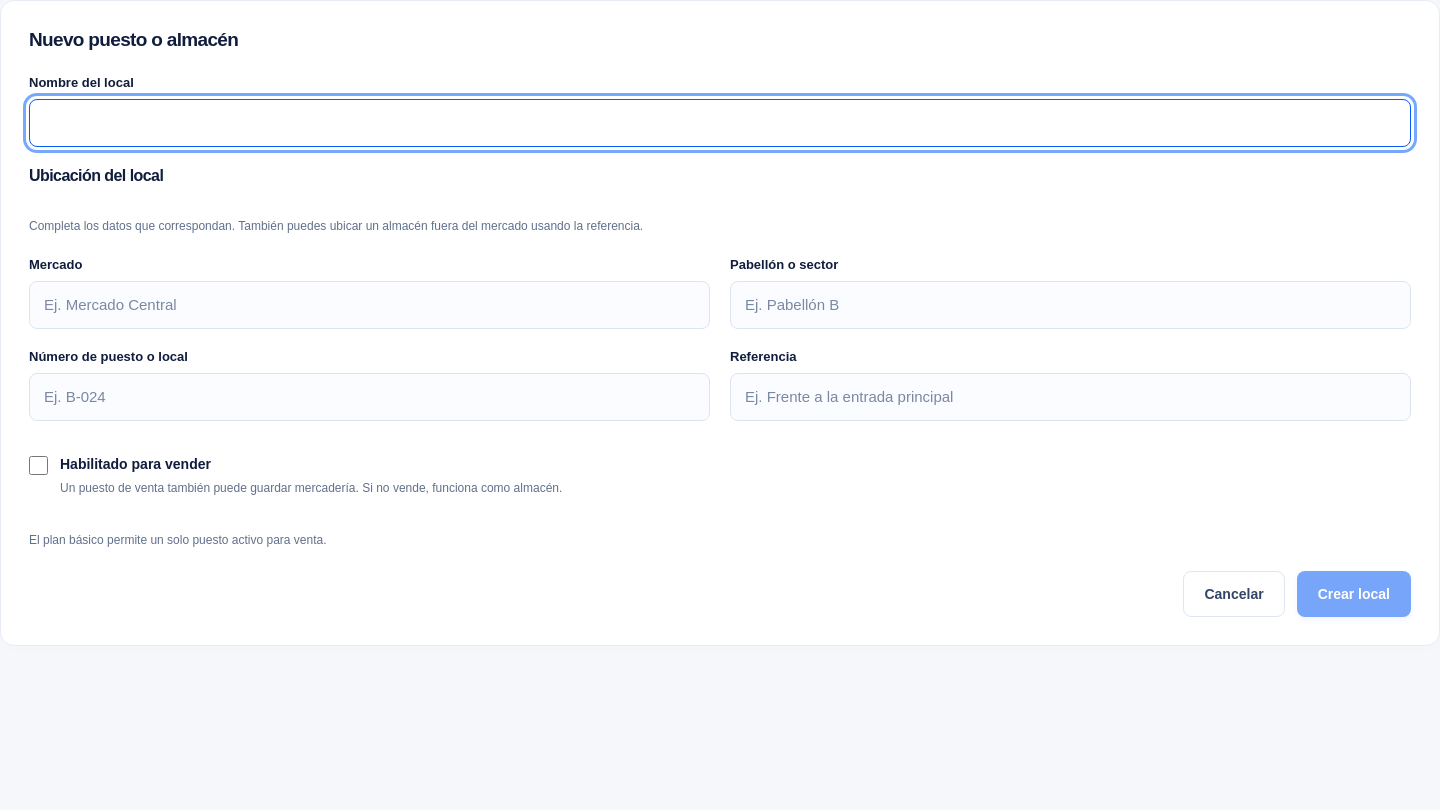
Test: un conflicto de local conserva el formulario y permite corregirlo
This screenshot has width=1440, height=810.
Type "Puesto secundario" into the field labelled "Nombre del local" at (720, 123), box [29,99,1411,147]
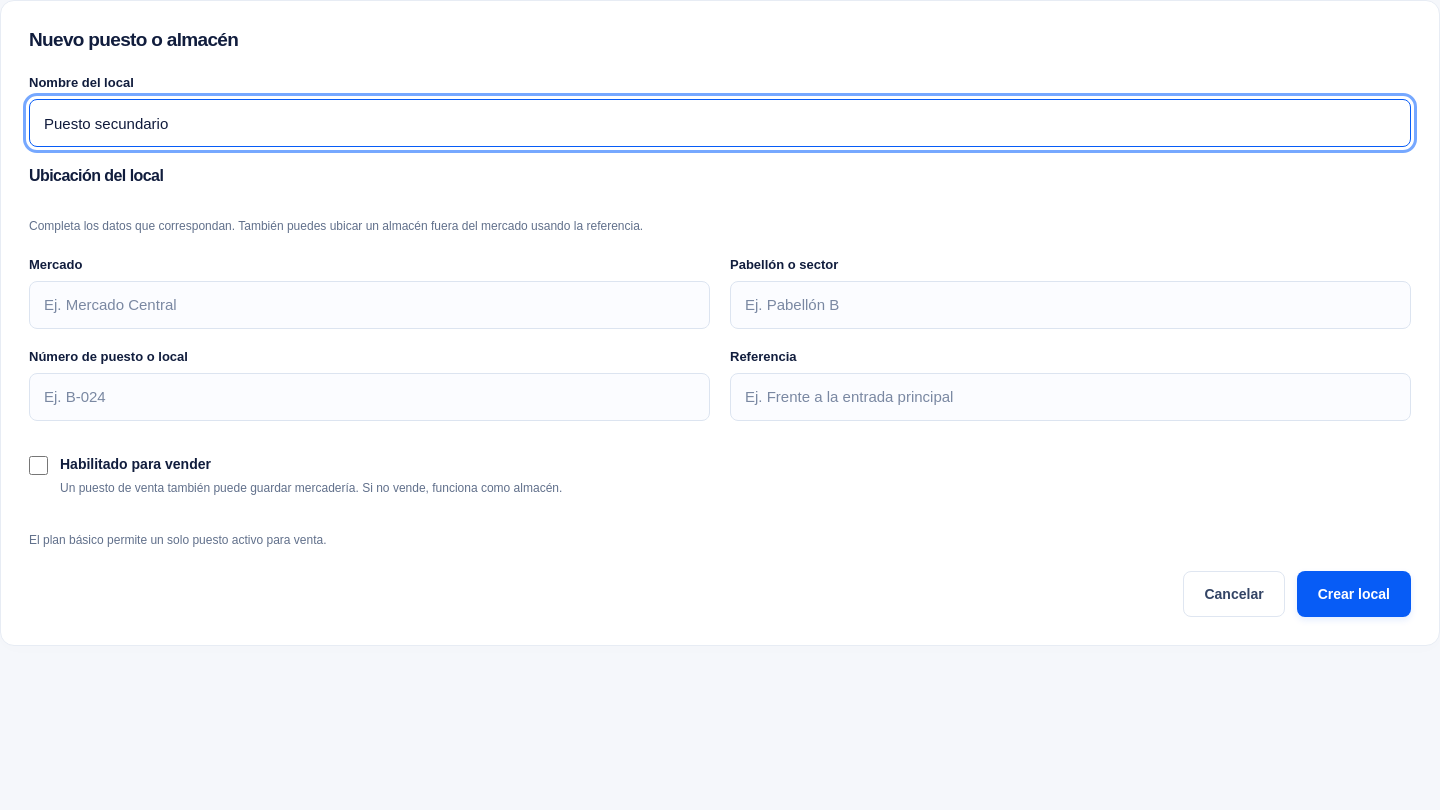
Click the checkbox labelled "Habilitado para vender" at (38, 465), box [29,456,48,475]
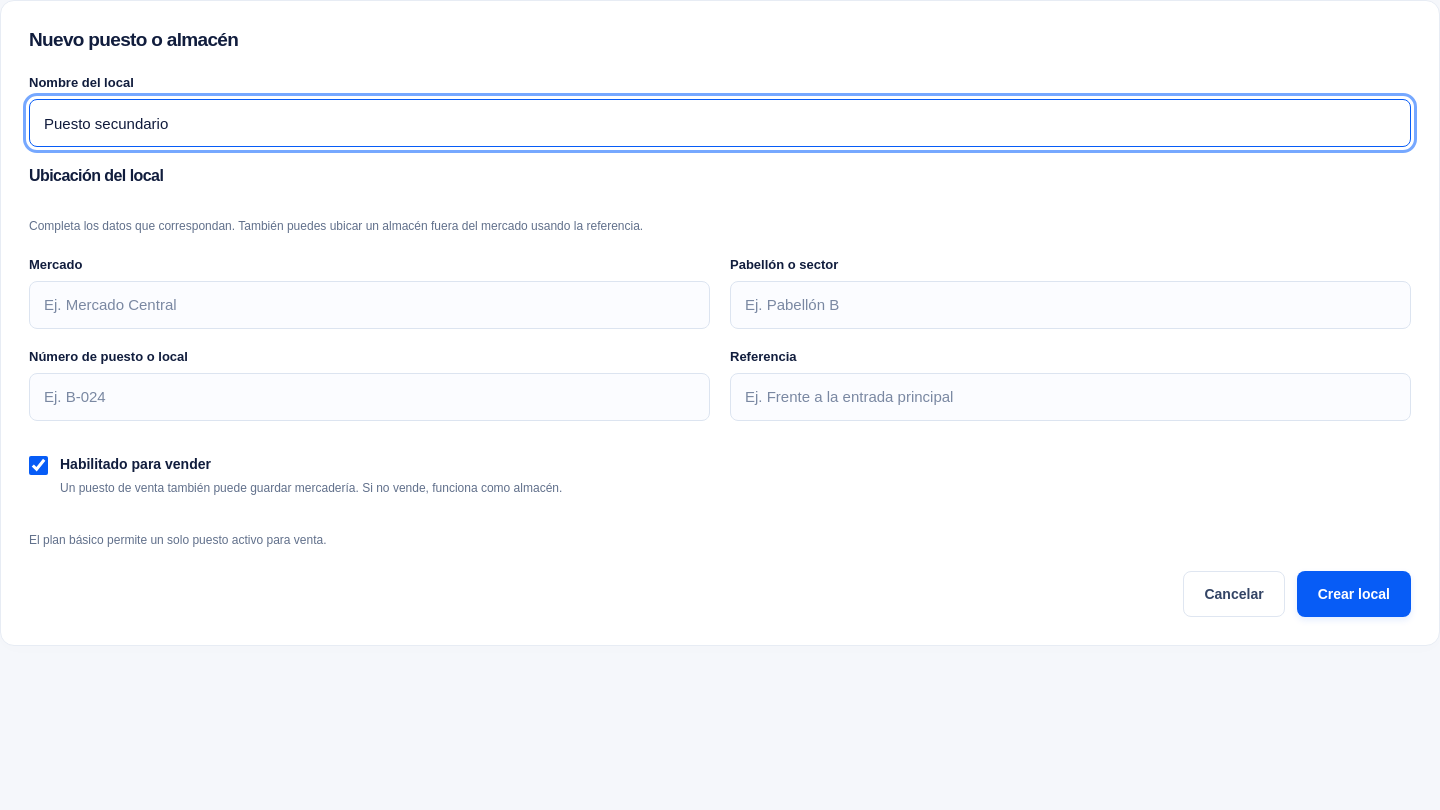
Click the button "Crear local" at (1354, 594), box [1297,571,1411,617]
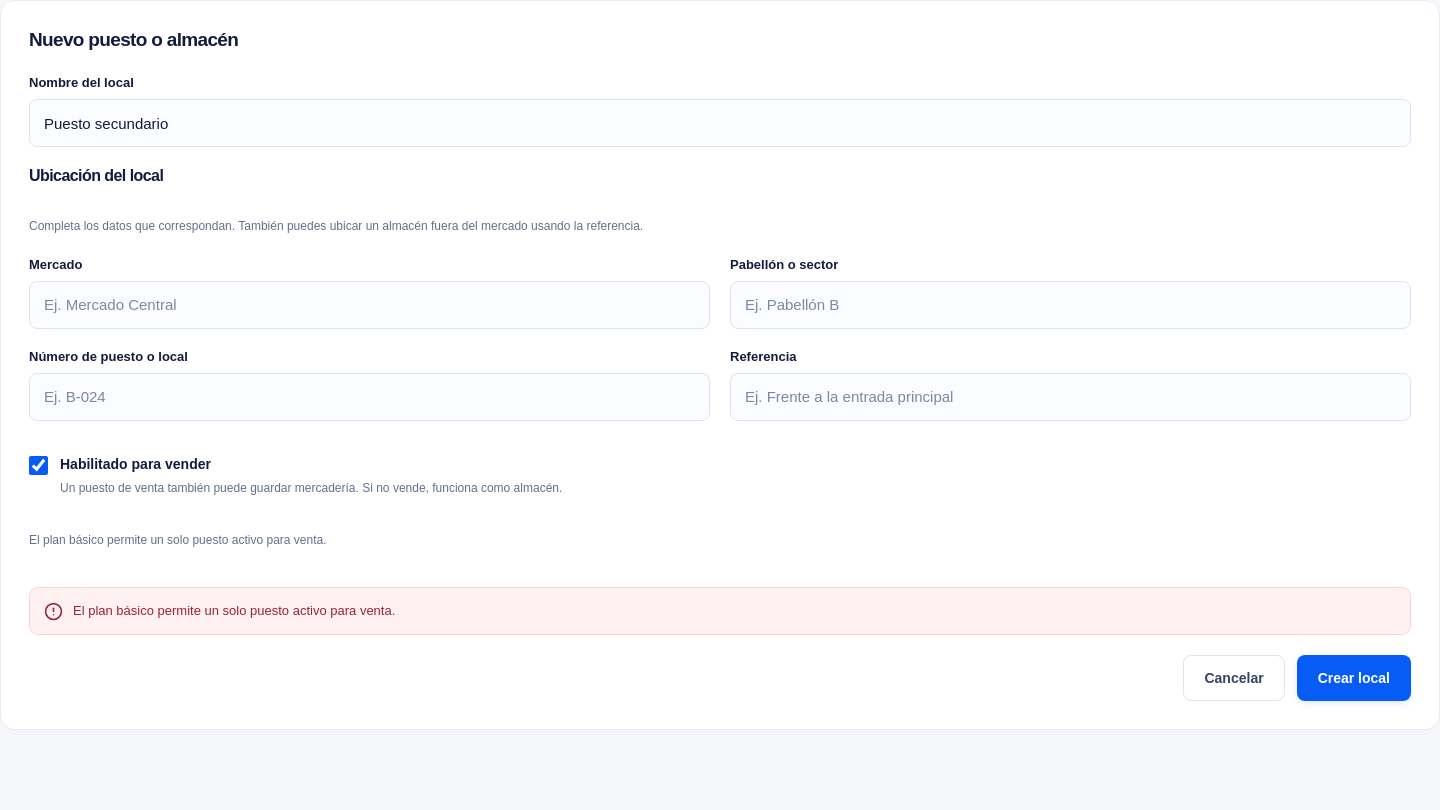
Result: the message "El plan básico permite un solo puesto activo para venta." is shown at [29,587,1411,635]
